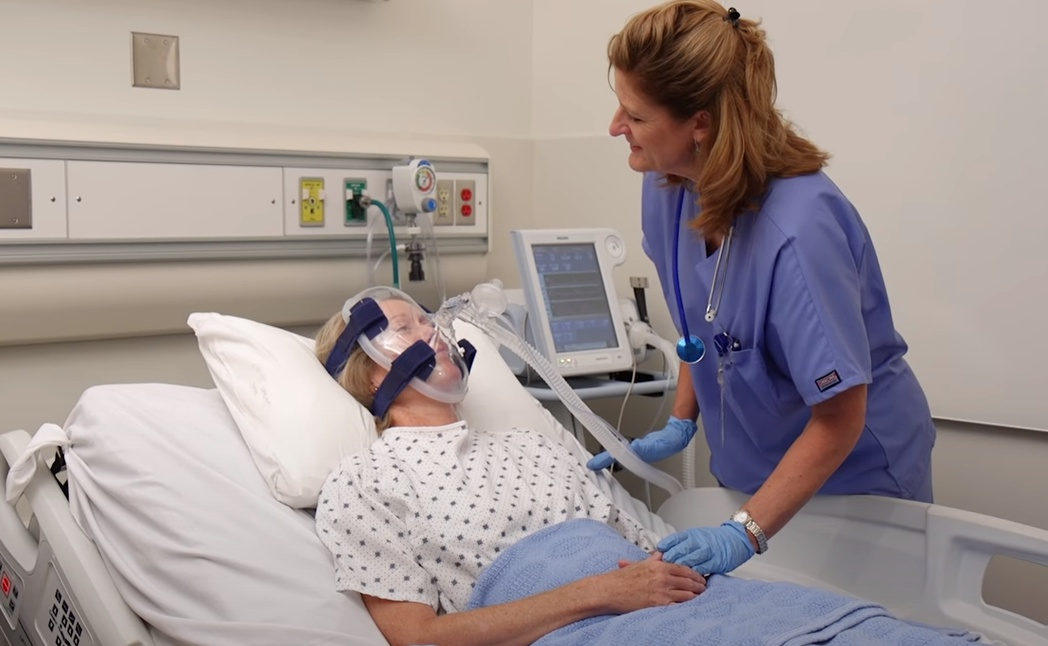mouth: (628, 142, 643, 157)
nose: (606, 122, 626, 137)
